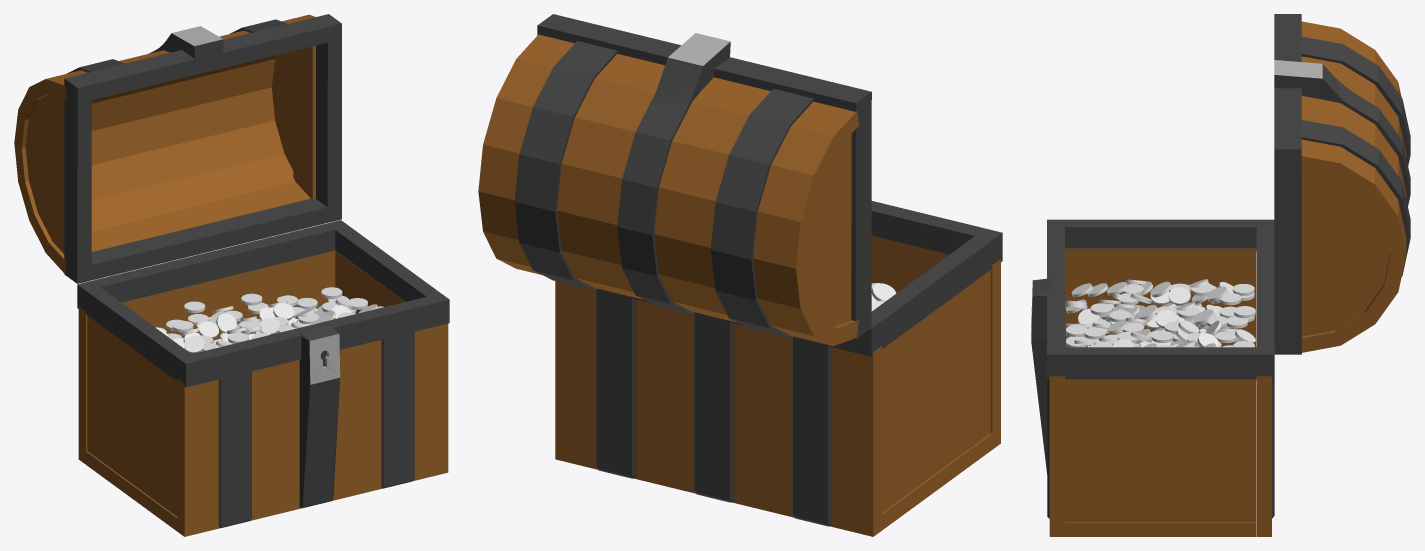
Rendered from cofre.fbx.
3 views of the same model, side by side, from view 1: azimuth 30°, elevation 25°; view 2: azimuth 150°, elevation 25°; view 3: azimuth 270°, elevation 25° (orthographic). The views are drawn at different scales.
Visible parts, largest first — view 1: Cube.008, Cube.002; view 2: Cube.002, Cube.008; view 3: Cube.008, Cube.002.
Part boxes in pixels (x1,y1,x2,y2): Cube.008: (77, 220, 449, 536); Cube.002: (14, 14, 341, 283); Cube.002: (478, 14, 871, 345); Cube.008: (555, 201, 1002, 536); Cube.008: (1031, 219, 1274, 536); Cube.002: (1274, 14, 1410, 354).
Bounding box in the file's own units: 361 × 501 × 428.
